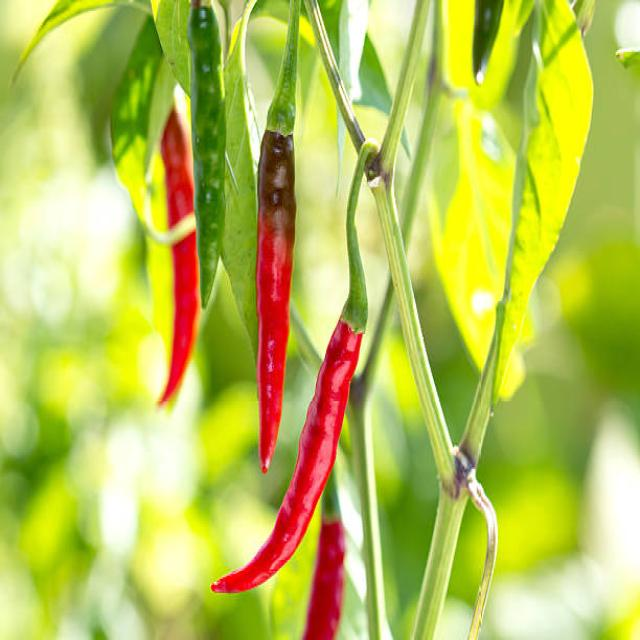Ripe: (212, 317, 362, 592), (256, 131, 296, 472), (159, 108, 200, 405)
Unripe: (188, 0, 225, 307)
